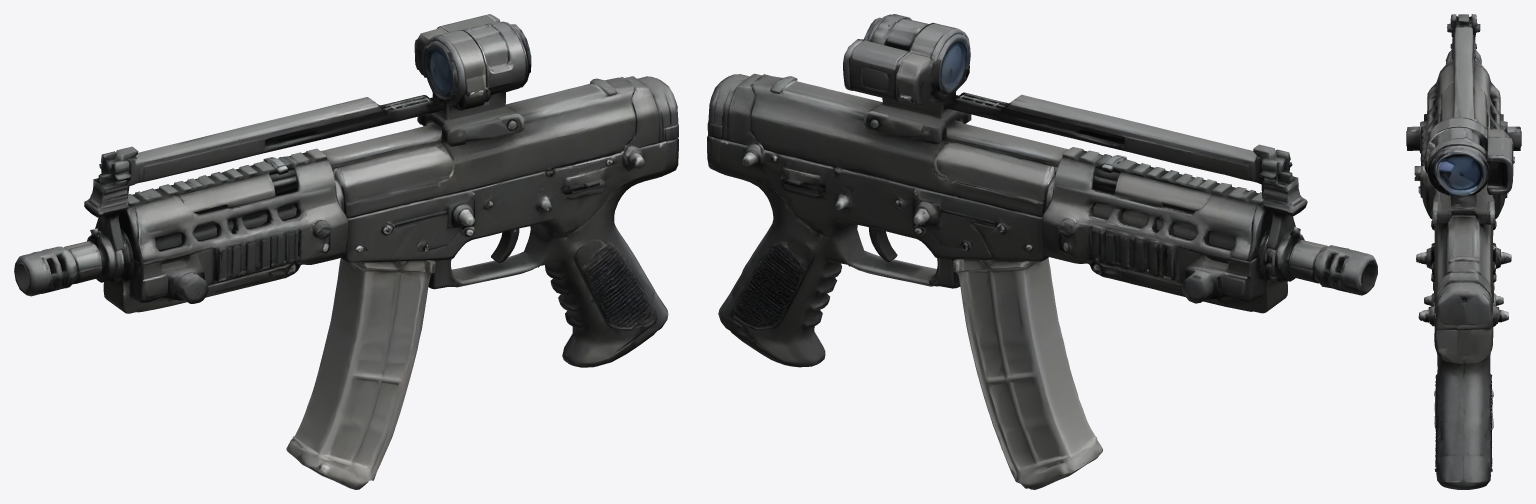
Rendered from rn_bullpup90.glb.
The picture shows the model from 3 angles, left to right: view 1: azimuth 30°, elevation 25°; view 2: azimuth 150°, elevation 25°; view 3: azimuth 270°, elevation 25°; orthographic projection. The views are drawn at different scales.
Visible parts, largest first — view 1: tripo_node_1e17d58f-d097-4b7c-a0e5-a7408fe2adcc; view 2: tripo_node_1e17d58f-d097-4b7c-a0e5-a7408fe2adcc; view 3: tripo_node_1e17d58f-d097-4b7c-a0e5-a7408fe2adcc.
Part boxes in pixels (x1=…): tripo_node_1e17d58f-d097-4b7c-a0e5-a7408fe2adcc: x1=14, y1=14, x2=678, y2=489; tripo_node_1e17d58f-d097-4b7c-a0e5-a7408fe2adcc: x1=707, y1=14, x2=1377, y2=489; tripo_node_1e17d58f-d097-4b7c-a0e5-a7408fe2adcc: x1=1406, y1=14, x2=1521, y2=489.
Size of the model in its own units: 0.9819 by 0.6147 by 0.1802.
1 material, 1 textured.
